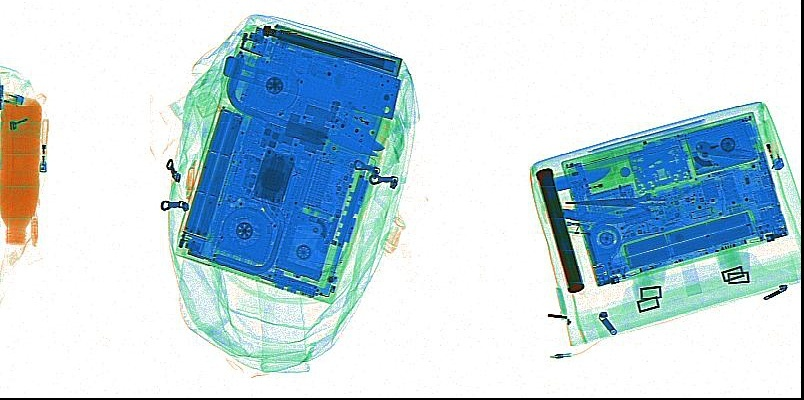knife: (223, 40, 401, 116), (283, 117, 377, 157), (335, 110, 385, 150), (550, 166, 608, 192), (553, 206, 622, 225), (693, 140, 757, 160)
lighter: (38, 118, 49, 173)
scissors: (564, 188, 672, 219)
